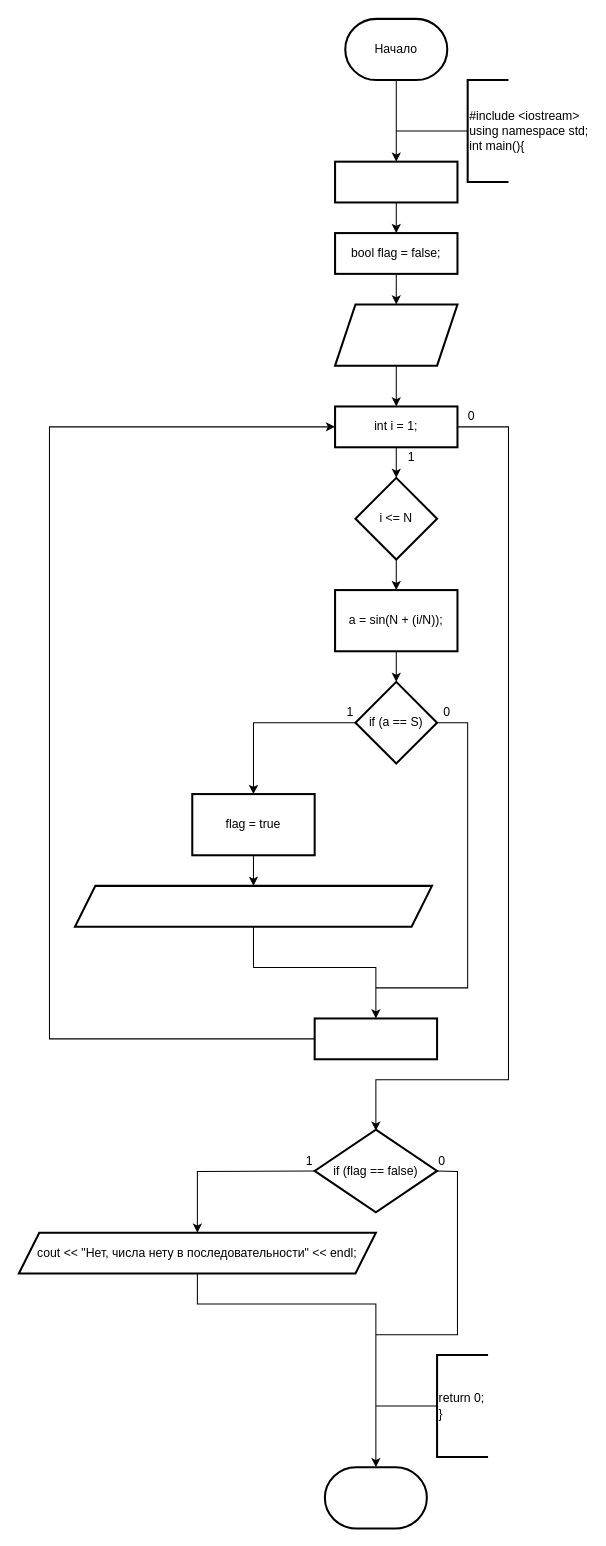
The diagram is 606 pixels wide and 1546 high, and some of its shapes have lost their labels. The shapes that lost their labels are listed below. From the top down, each one's box as (x1, y1, x2, y2) in pixels, then its label:
(334, 160, 458, 203): int n;
(334, 303, 458, 366): cin >> N >> S;
(73, 884, 432, 927): cout << "Да, число есть в последовательности" << endl;
(313, 1017, 438, 1060): i++
(323, 1466, 427, 1529): Конец
